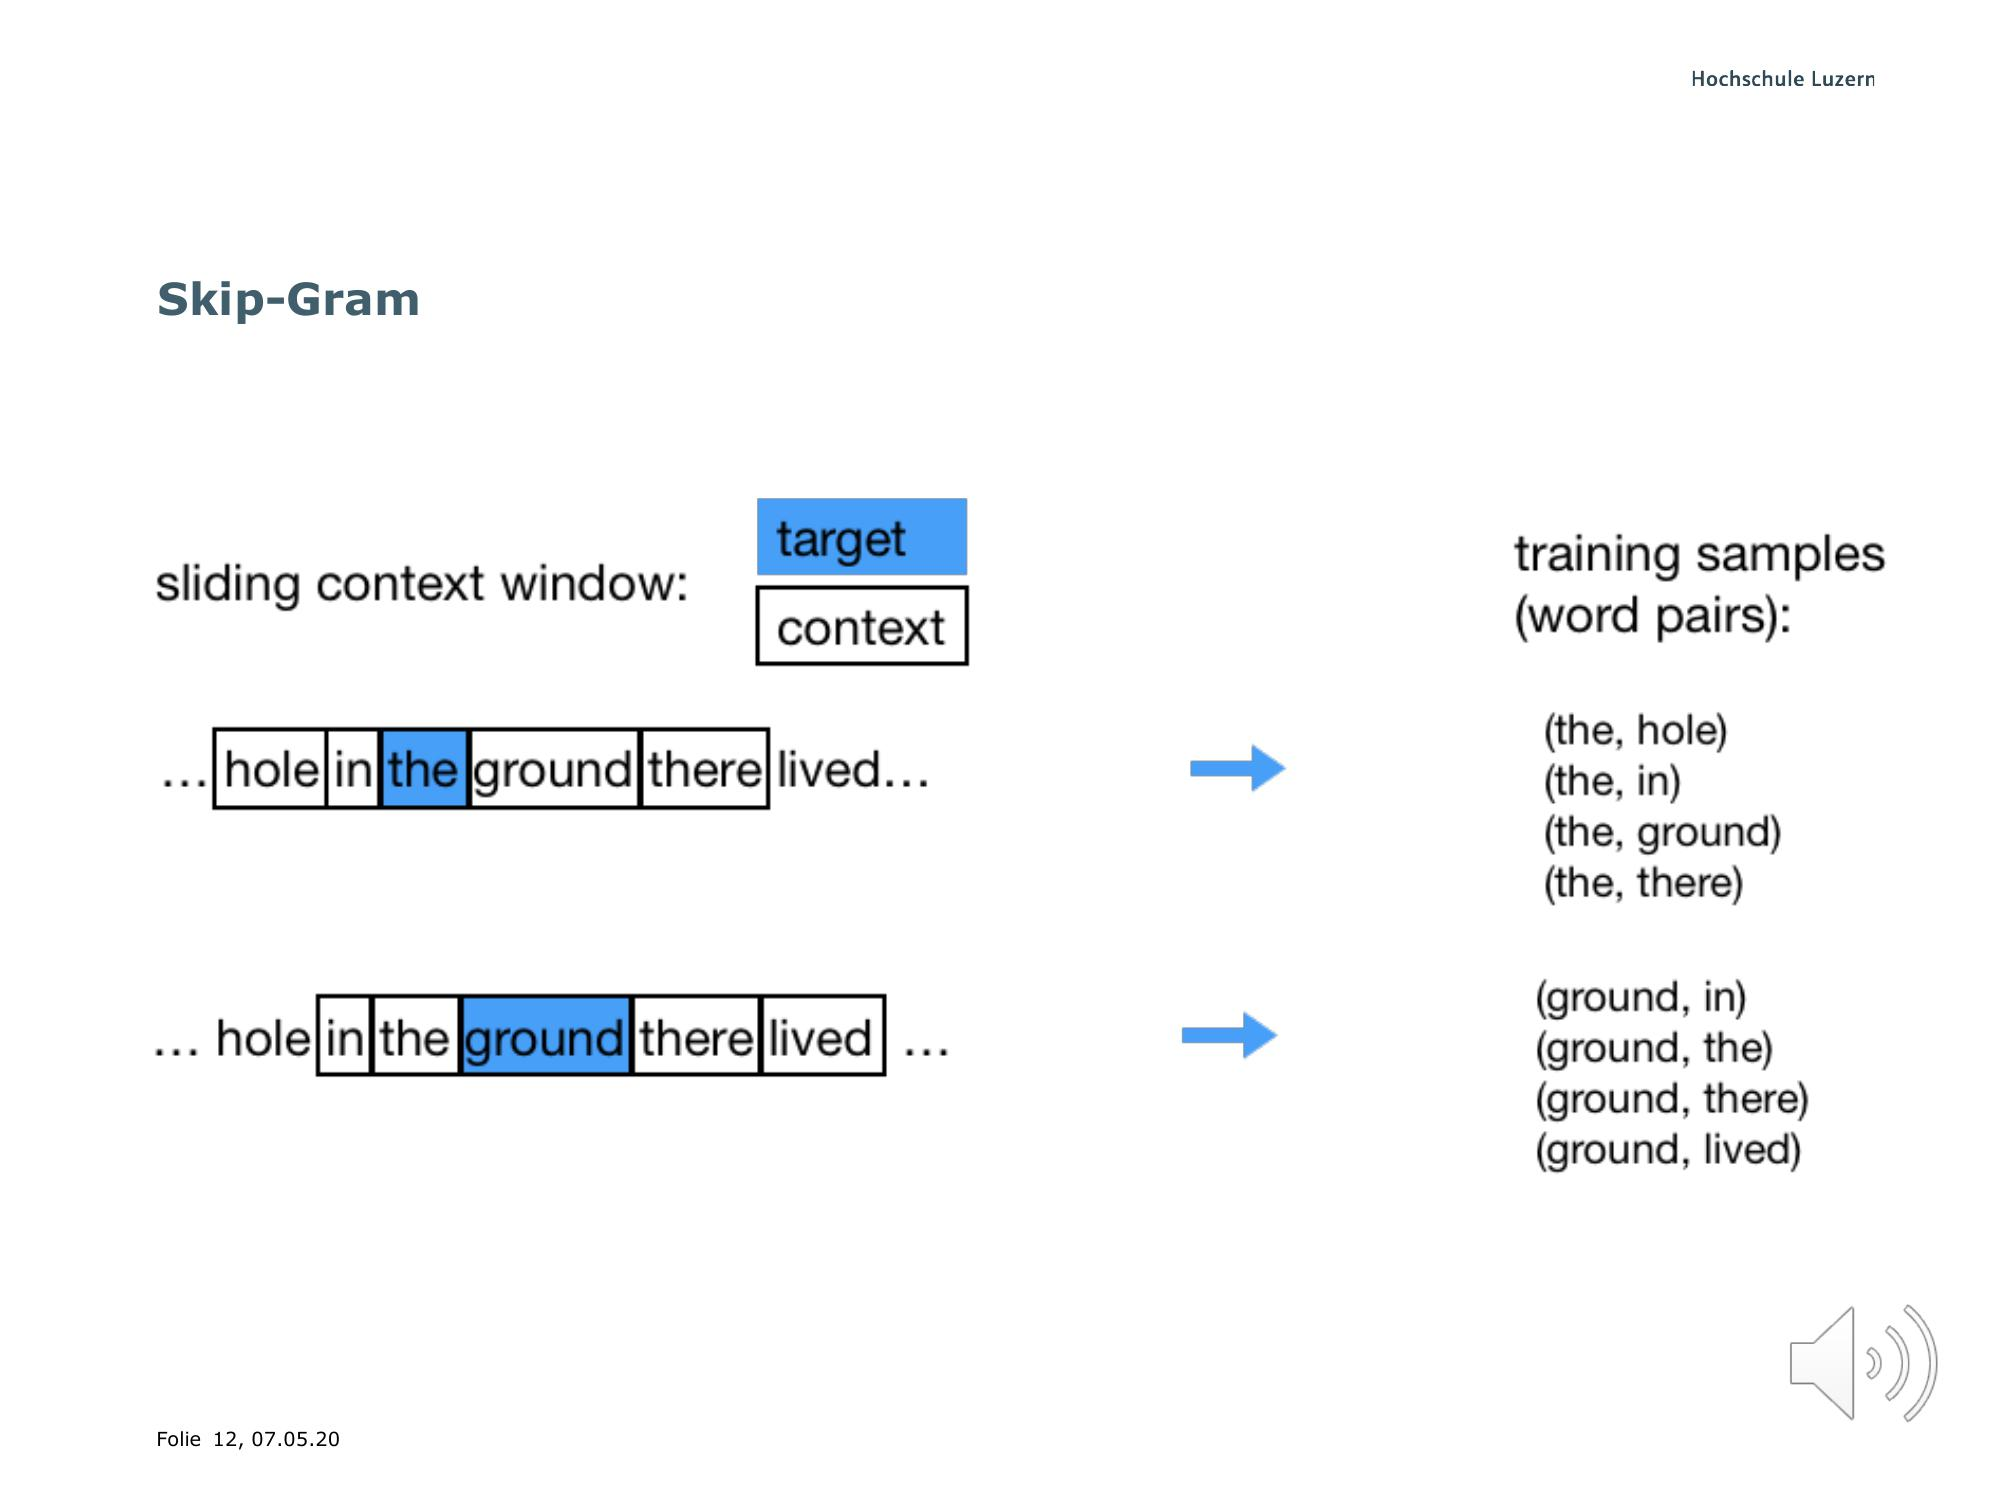Title: (131, 262, 435, 339)
